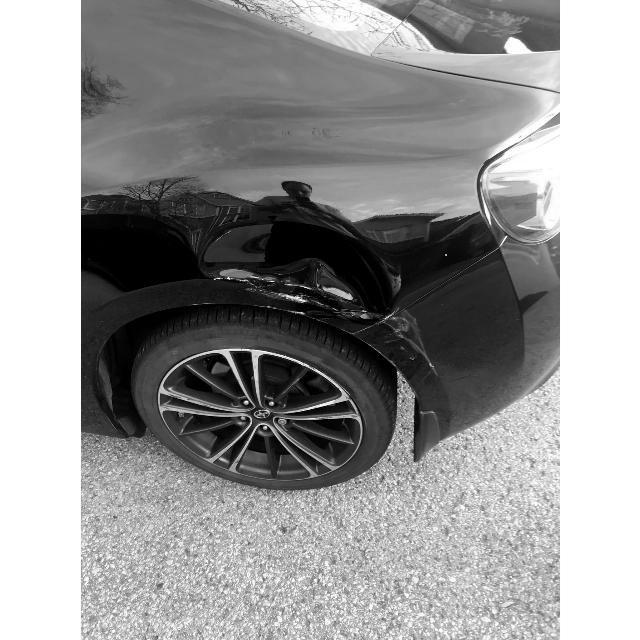quaterpanel-dent: (81, 178, 482, 403)
